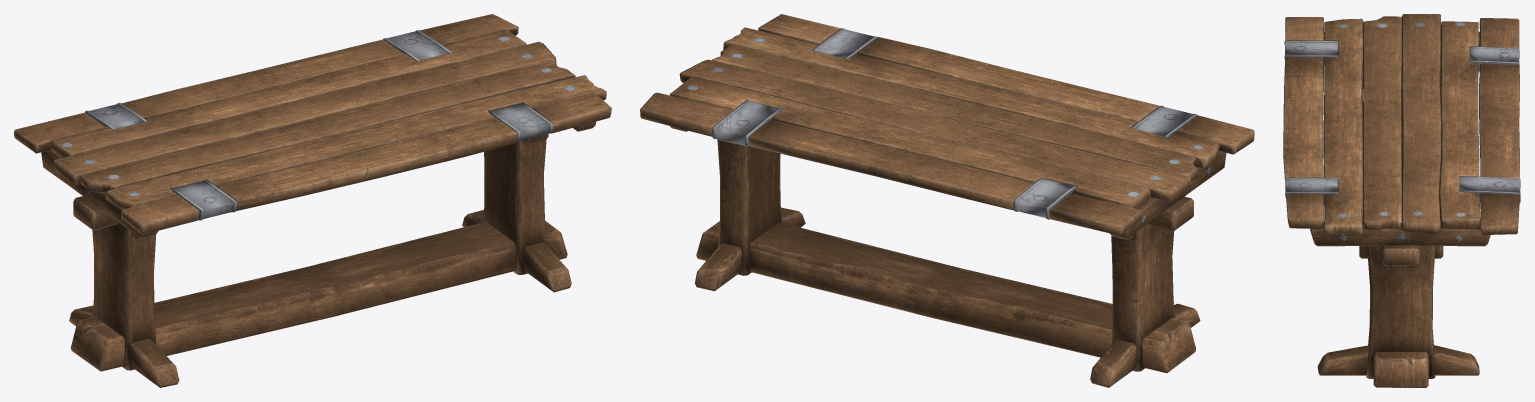
Rendered from fantasy_table_low-poly_stylised.glb.
3 renders of one model, left to right at view 1: azimuth 30°, elevation 25°; view 2: azimuth 150°, elevation 25°; view 3: azimuth 270°, elevation 25°, orthographic. The views are drawn at different scales.
Parts seen in each view (by area): view 1: table_final; view 2: table_final; view 3: table_final.
Part boxes in pixels (<box>): table_final: <box>14,14,611,387</box>; table_final: <box>640,14,1254,387</box>; table_final: <box>1283,14,1520,387</box>.
Bounding box in the file's own units: 2.23 × 0.8302 × 1.05.
Materials: 1 (1 with a texture image).
